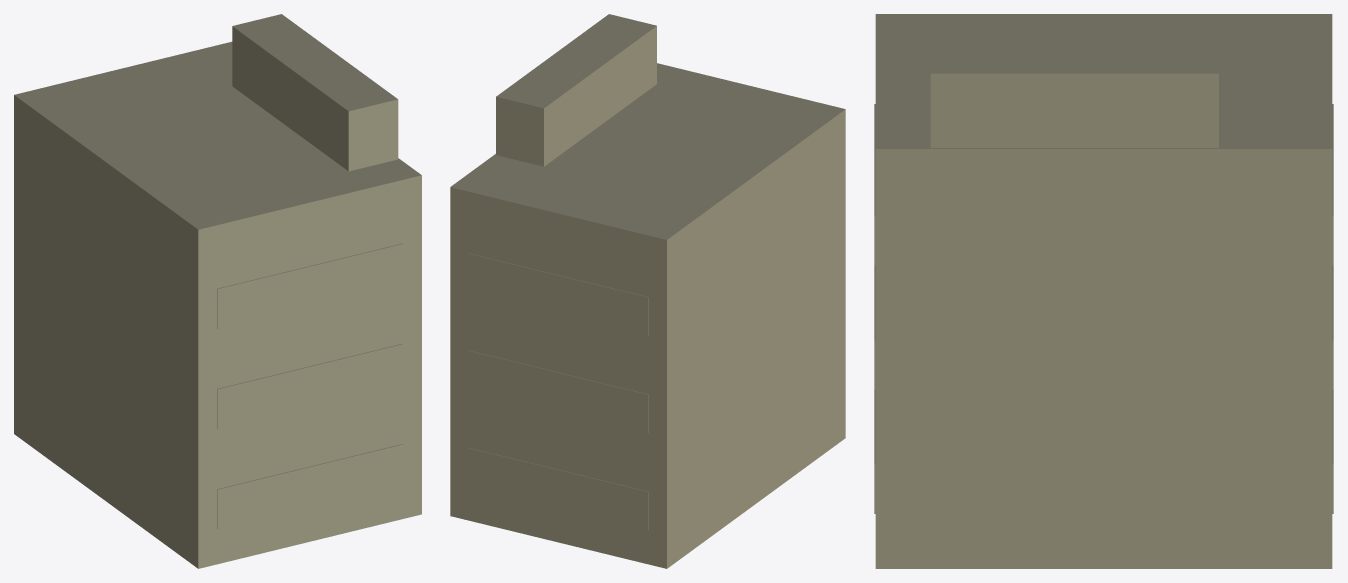
File: bay-townhouse-yellow.far-facades-v1.lod2.glb
3 renders of one model, left to right at view 1: azimuth 30°, elevation 25°; view 2: azimuth 150°, elevation 25°; view 3: azimuth 270°, elevation 25°, orthographic. The views are drawn at different scales.
Visible parts, largest first — view 1: bay-townhouse-yellow; view 2: bay-townhouse-yellow; view 3: bay-townhouse-yellow.
Part boxes in pixels (<box>): bay-townhouse-yellow: <box>14,14,421,568</box>; bay-townhouse-yellow: <box>450,14,845,568</box>; bay-townhouse-yellow: <box>874,14,1333,568</box>.
Bounding box in the file's own units: 7 × 11.95 × 10.06.
